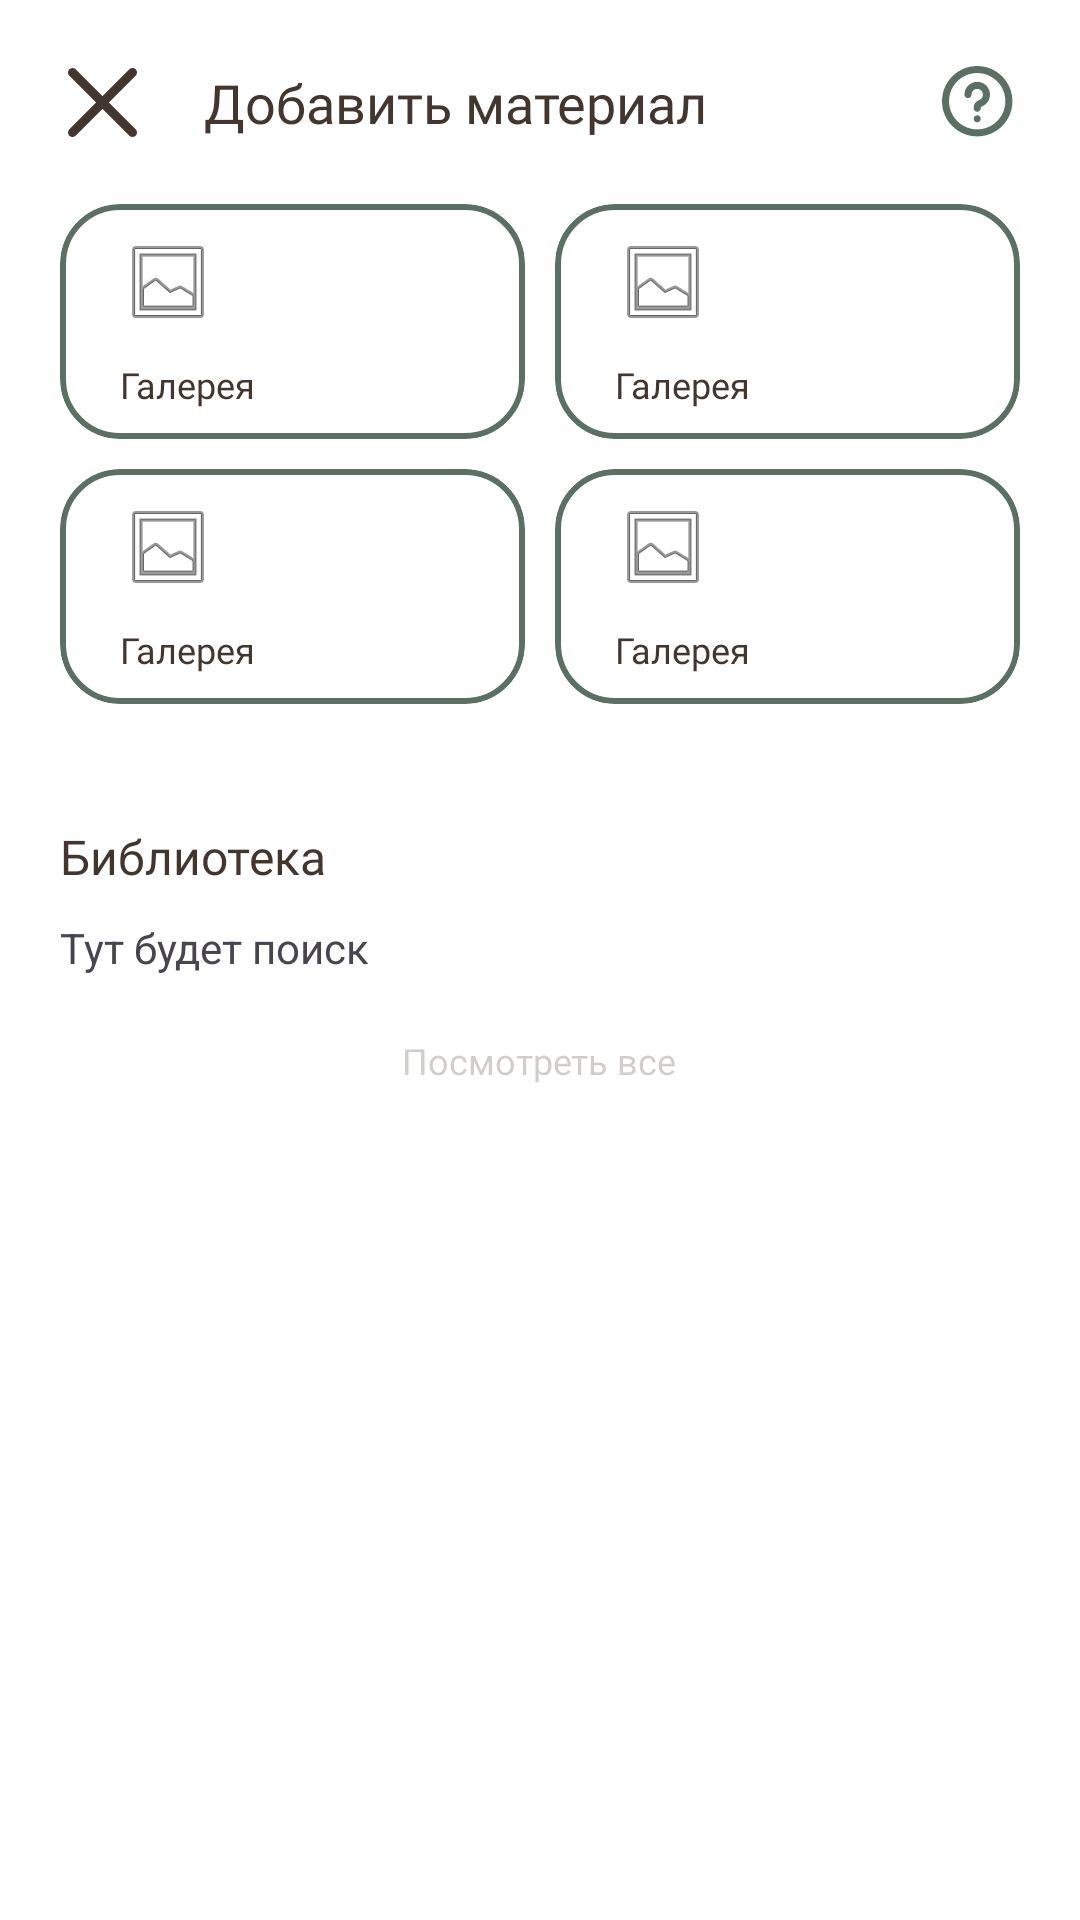

Point at icon controls on the screen. Image size 1080w x 1920h, points as (x,y).
close: (102,102)
gallery: (168,282), (663,282), (168,547), (663,547)
question: (977,101)
